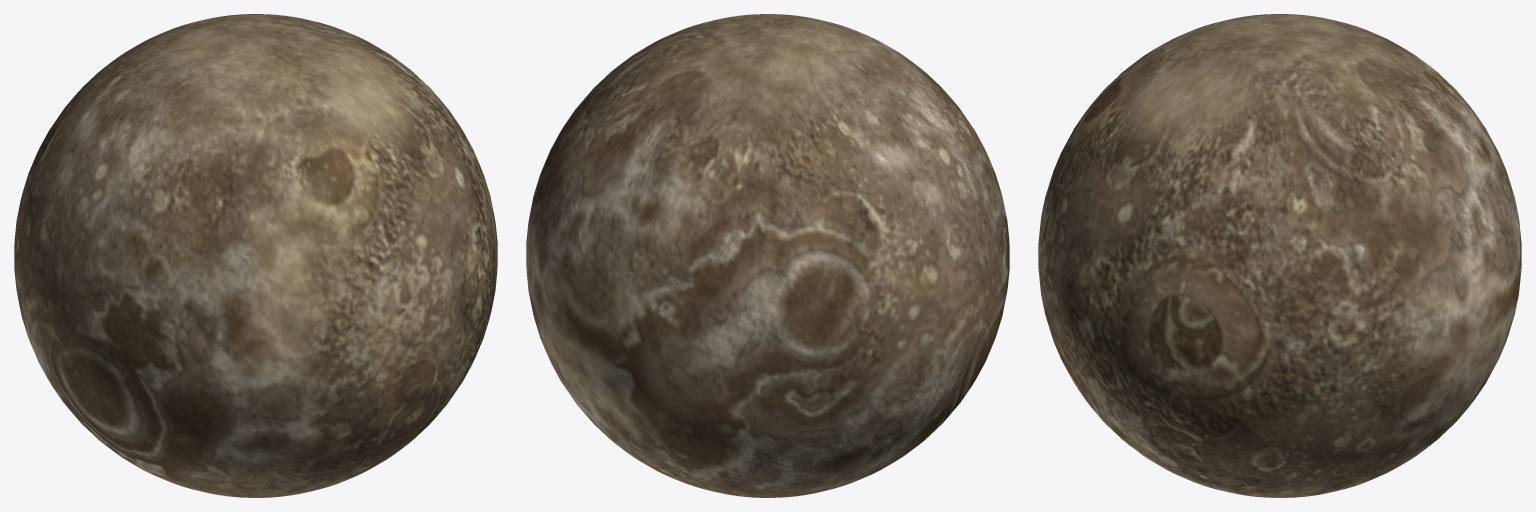
Rendered from moon2.fbx.
The picture shows the model from 3 angles, left to right: view 1: azimuth 30°, elevation 25°; view 2: azimuth 150°, elevation 25°; view 3: azimuth 270°, elevation 25°; orthographic projection.
Visible parts, largest first — view 1: planet; view 2: planet; view 3: planet.
Boxes of the visible parts, <box> form: planet: <box>14,14,497,497</box>; planet: <box>526,14,1009,497</box>; planet: <box>1038,14,1521,497</box>.
Size of the model in its own units: 99.8 by 100 by 99.9.
1 material, 1 textured.
